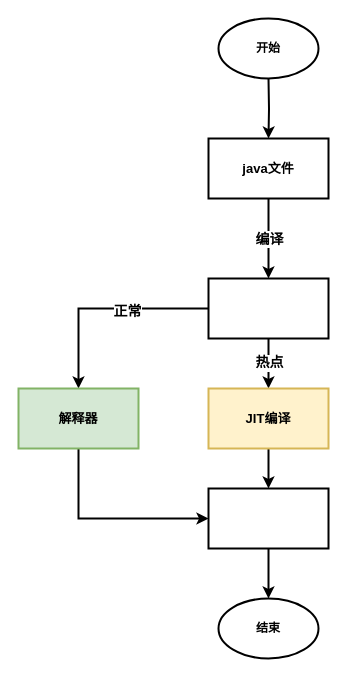
Some shapes in this 346 by 676 pixel diagram are drawn without their labels. The centre of each missing label's shape, as x and y in pixels:
"class文件" goes at (x=268, y=308).
"系统/硬件" goes at (x=268, y=518).
